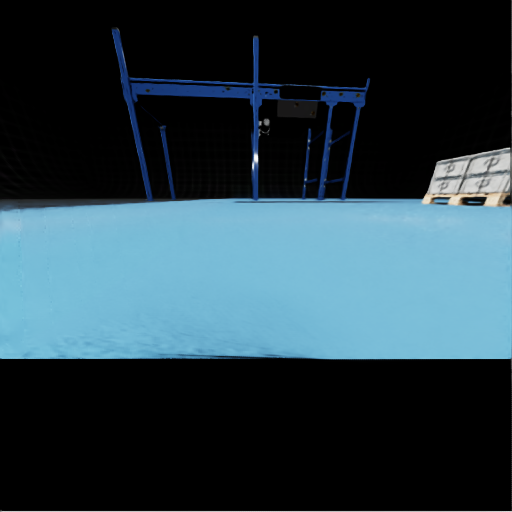transportation_area: (459, 171, 511, 193), (475, 150, 495, 196), (445, 161, 450, 176), (439, 181, 443, 193), (252, 91, 253, 92)
